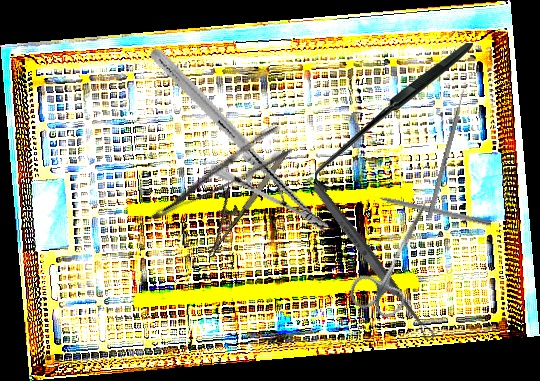Dressing Forceps: (138, 122, 294, 224)
Hook Surgical: (315, 43, 473, 190), (363, 190, 493, 227)
Iris Scissors: (344, 188, 450, 324)
Needle Holder: (115, 47, 364, 234), (187, 137, 292, 258)
Pusher: (427, 79, 469, 218)
Surgical Spoon: (310, 181, 437, 344)
